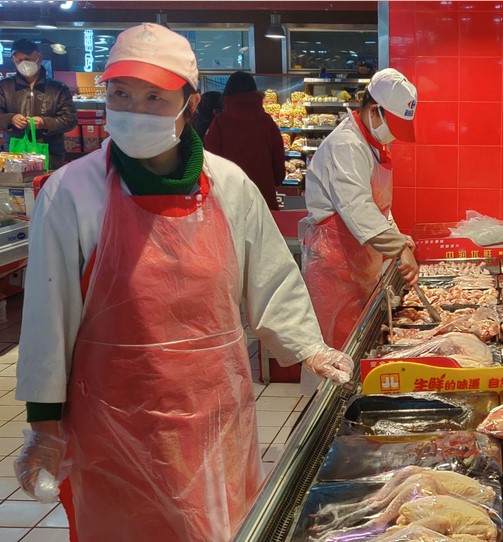face_with_mask: (100, 21, 200, 161), (357, 69, 418, 150), (7, 36, 45, 78)
